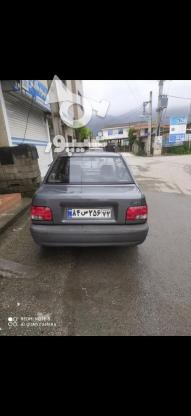car: (64, 209, 113, 219)
